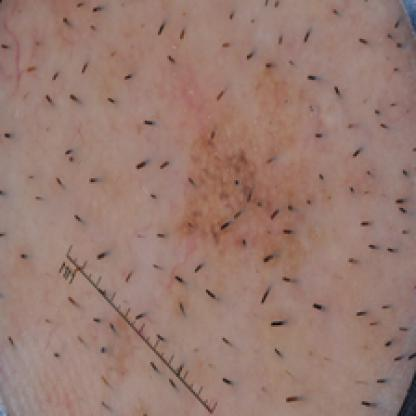malignant: (176, 125, 329, 271)
